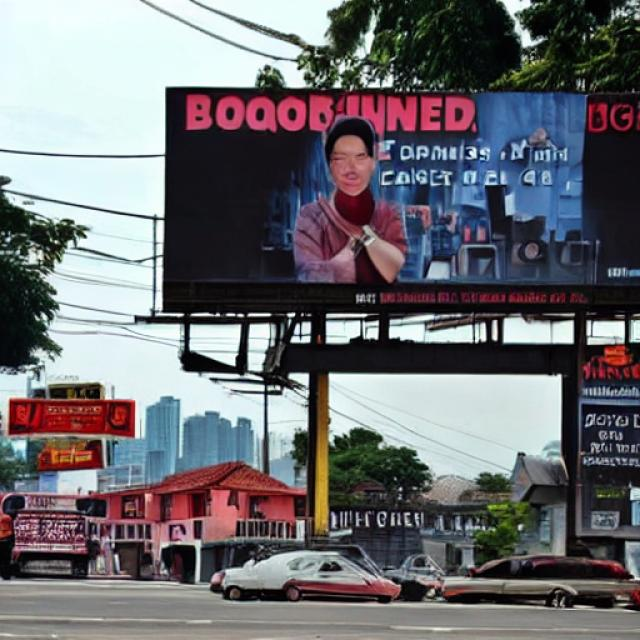Billboard: (159, 82, 640, 321)
